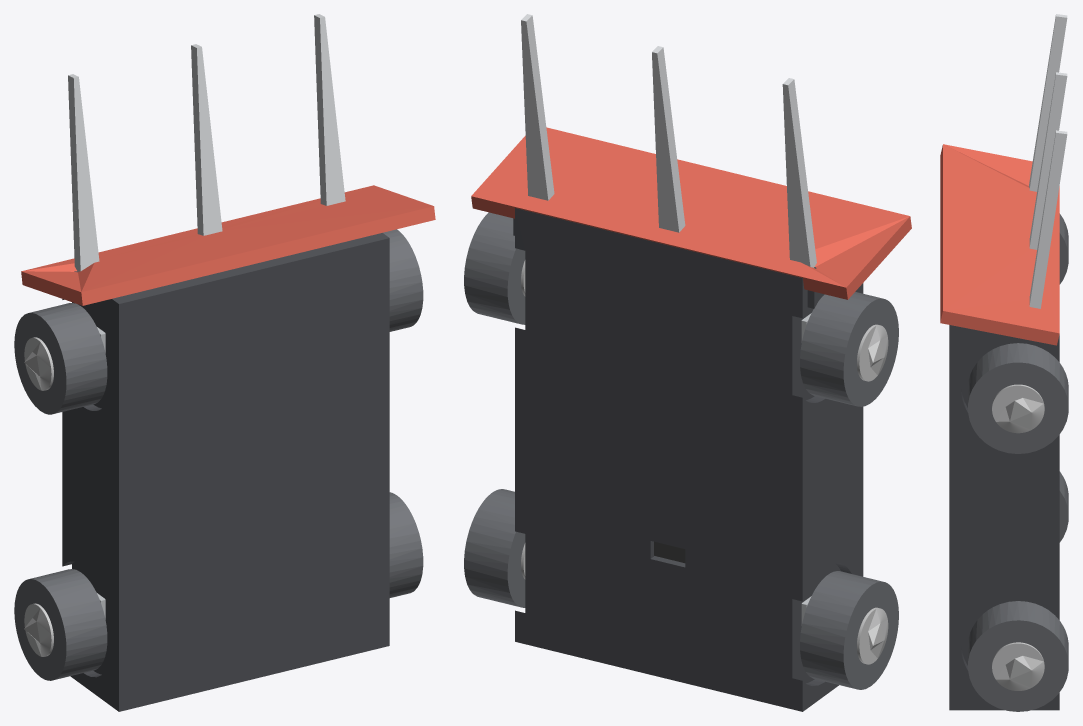
Rendered from diplomatic_embargo.glb.
The picture shows the model from 3 angles, left to right: view 1: azimuth 30°, elevation 25°; view 2: azimuth 150°, elevation 25°; view 3: azimuth 270°, elevation 25°; orthographic projection. The views are drawn at different scales.
Visible parts, largest first — view 1: chassis, front_plate, wheel_r0, wheel_r1, fork_0, fork_2, fork_1, wheel_l0, wheel_l1, dt_hub_wheel_r0, dt_hub_wheel_r1; view 2: chassis, front_plate, wheel_r0, wheel_r1, wheel_l0, wheel_l1, fork_0, fork_2, fork_1, dt_hub_wheel_r0, dt_hub_wheel_r1; view 3: chassis, front_plate, wheel_l0, wheel_l1, fork_2, dt_hub_wheel_l0, dt_hub_wheel_l1, fork_0, fork_1, wheel_r1, wheel_r0.
Part boxes in pixels (x1,y1,x2,y2): chassis: (62,233,389,711); front_plate: (21,185,435,305); wheel_r0: (14,569,107,680); wheel_r1: (14,303,107,414); fork_0: (68,74,99,271); fork_2: (314,14,345,205); fork_1: (191,44,222,235); wheel_l0: (389,492,423,597); wheel_l1: (383,229,423,331); dt_hub_wheel_r0: (24,603,53,656); dt_hub_wheel_r1: (24,337,53,390); chassis: (513,208,863,711); front_plate: (471,127,911,299); wheel_r0: (800,571,898,689); wheel_r1: (800,292,898,406); wheel_l0: (464,489,525,607); wheel_l1: (464,212,525,324); fork_0: (782,78,816,267); fork_2: (521,14,554,200); fork_1: (652,46,685,232); dt_hub_wheel_r0: (857,607,888,664); dt_hub_wheel_r1: (857,324,888,381); chassis: (949,325,1059,710); front_plate: (940,144,1059,345); wheel_l0: (968,601,1068,711); wheel_l1: (968,343,1068,453); fork_2: (1029,130,1067,308); dt_hub_wheel_l0: (992,642,1044,690); dt_hub_wheel_l1: (992,384,1044,433); fork_0: (1029,14,1067,191); fork_1: (1029,72,1067,249); wheel_r1: (1059,213,1068,284); wheel_r0: (1059,471,1068,542).
Size of the model in its own units: 91.4 by 138 by 28.03.
